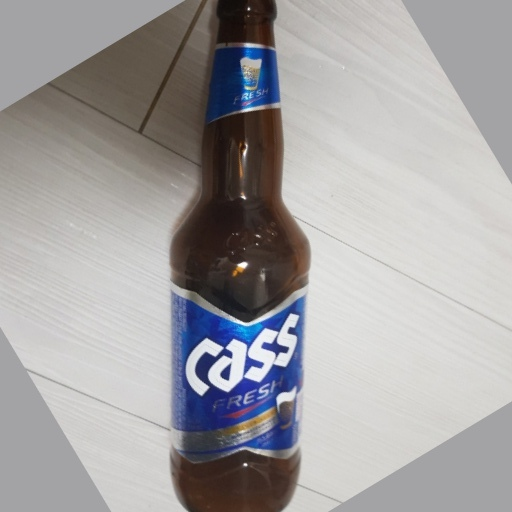Glass_1: (174, 1, 310, 512)
